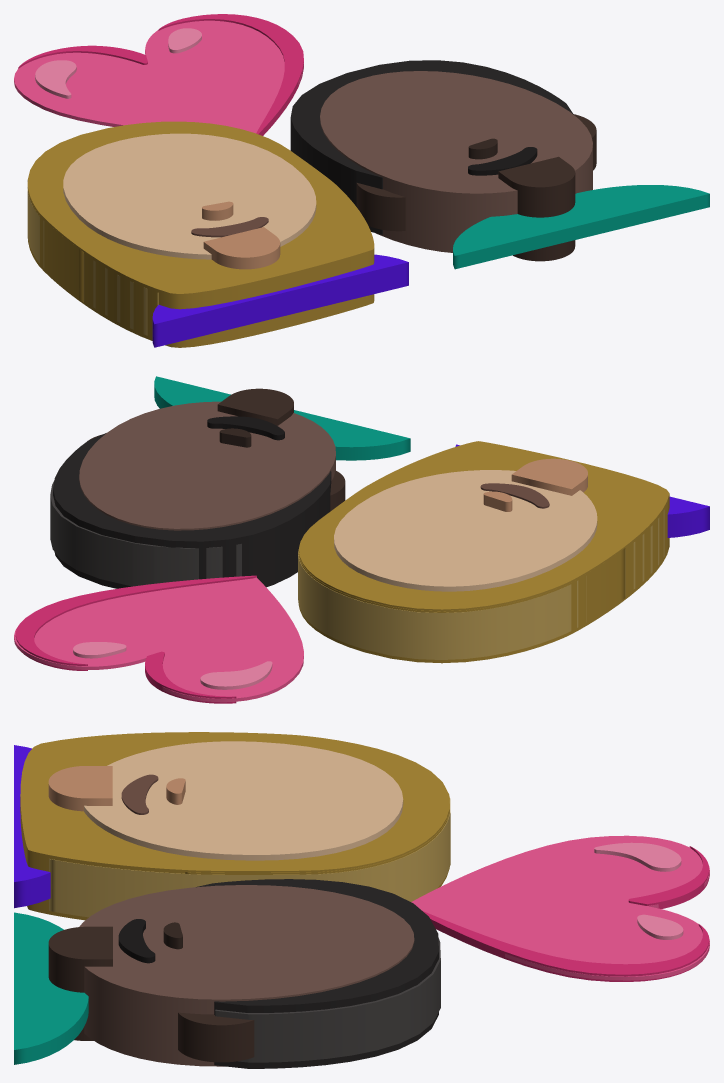
Rendered from emoji_u1f469_1f3fc_200d_2764_200d_1f468_1f3ff.glb.
3 renders of one model, top to bottom at view 1: azimuth 30°, elevation 25°; view 2: azimuth 150°, elevation 25°; view 3: azimuth 270°, elevation 25°, orthographic. The views are drawn at different scales.
Parts seen in each view (by area): view 1: emoji_u1f469_1f3fc_200d_2764_200d_1f468_1f3ff; view 2: emoji_u1f469_1f3fc_200d_2764_200d_1f468_1f3ff; view 3: emoji_u1f469_1f3fc_200d_2764_200d_1f468_1f3ff.
Boxes of the visible parts, x1,y1,x2,y2 form: emoji_u1f469_1f3fc_200d_2764_200d_1f468_1f3ff: (14,14,709,347); emoji_u1f469_1f3fc_200d_2764_200d_1f468_1f3ff: (14,376,709,703); emoji_u1f469_1f3fc_200d_2764_200d_1f468_1f3ff: (14,732,709,1068).
Size of the model in its own units: 0.0346 by 0.005 by 0.0339.
